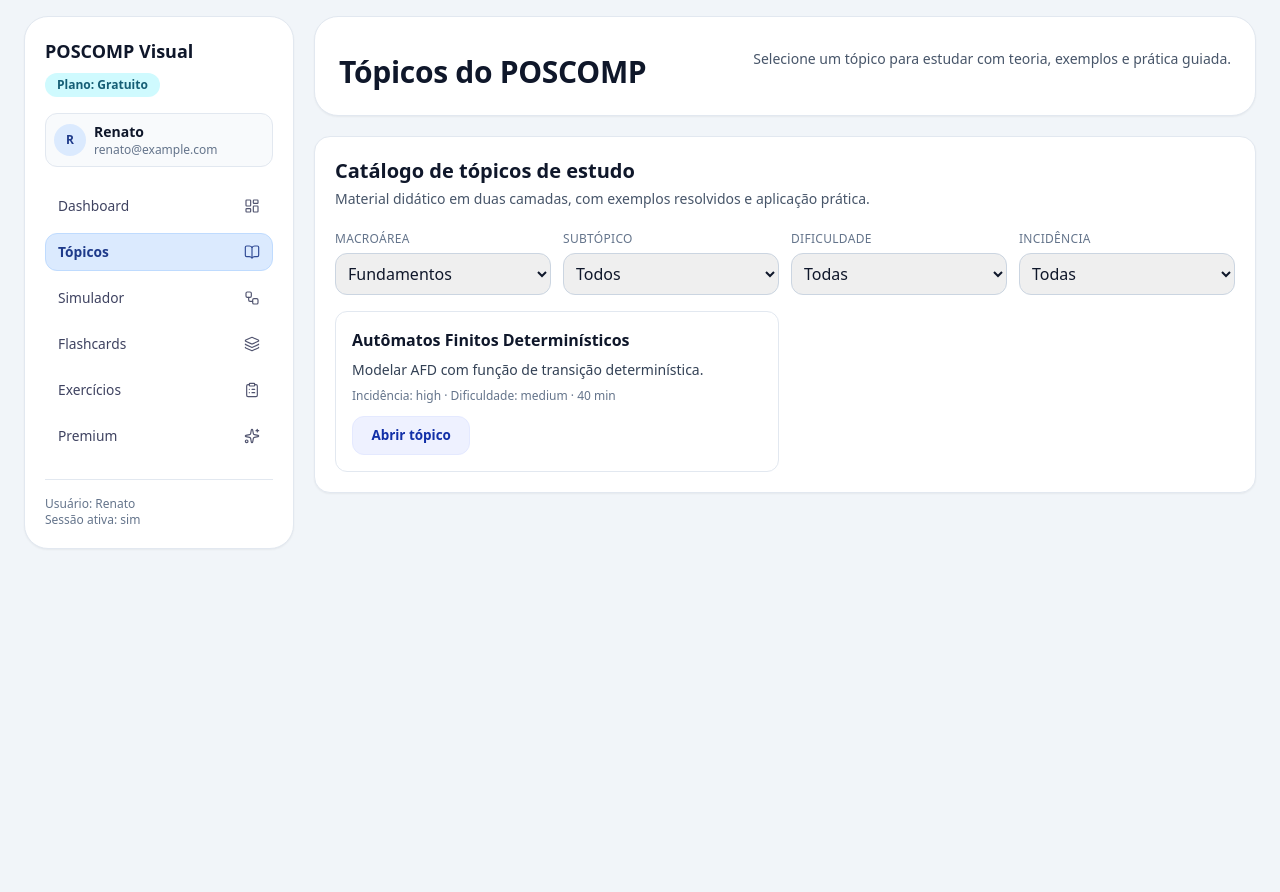
Test: módulo de tópicos › corrige quick-check e salva progresso do tópico
What coordinates should you click on to do the following:
click the button "Tópicos"
I would click on:
 (159, 252)
Its box is [45,233,273,271].
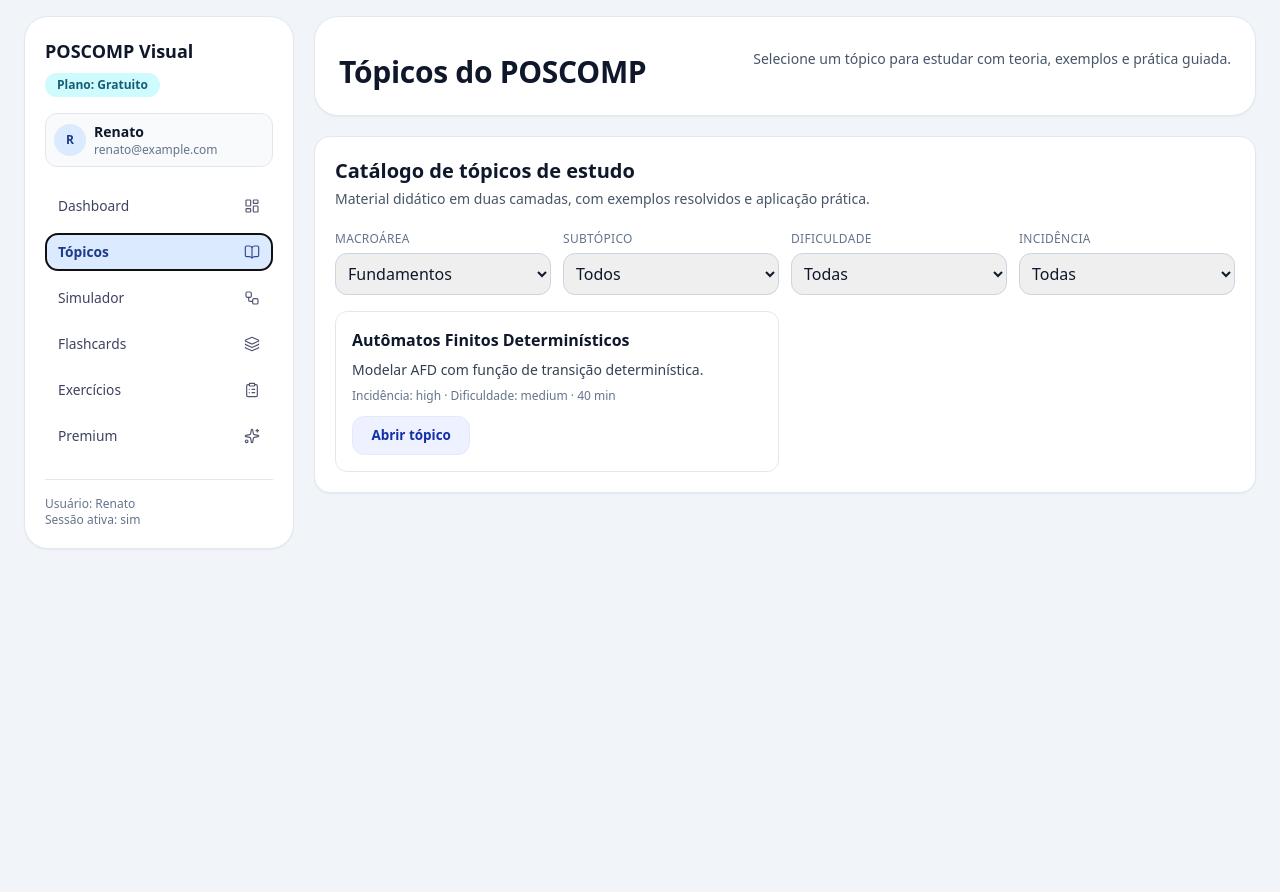
Expected: the heading "Autômatos Finitos Determinísticos" is shown, [352,328,630,350]
What coordinates should you click on to do the following:
click the button "Abrir tópico"
I would click on:
 (411, 435)
Its box is [352,416,470,455].
(page scrolled)
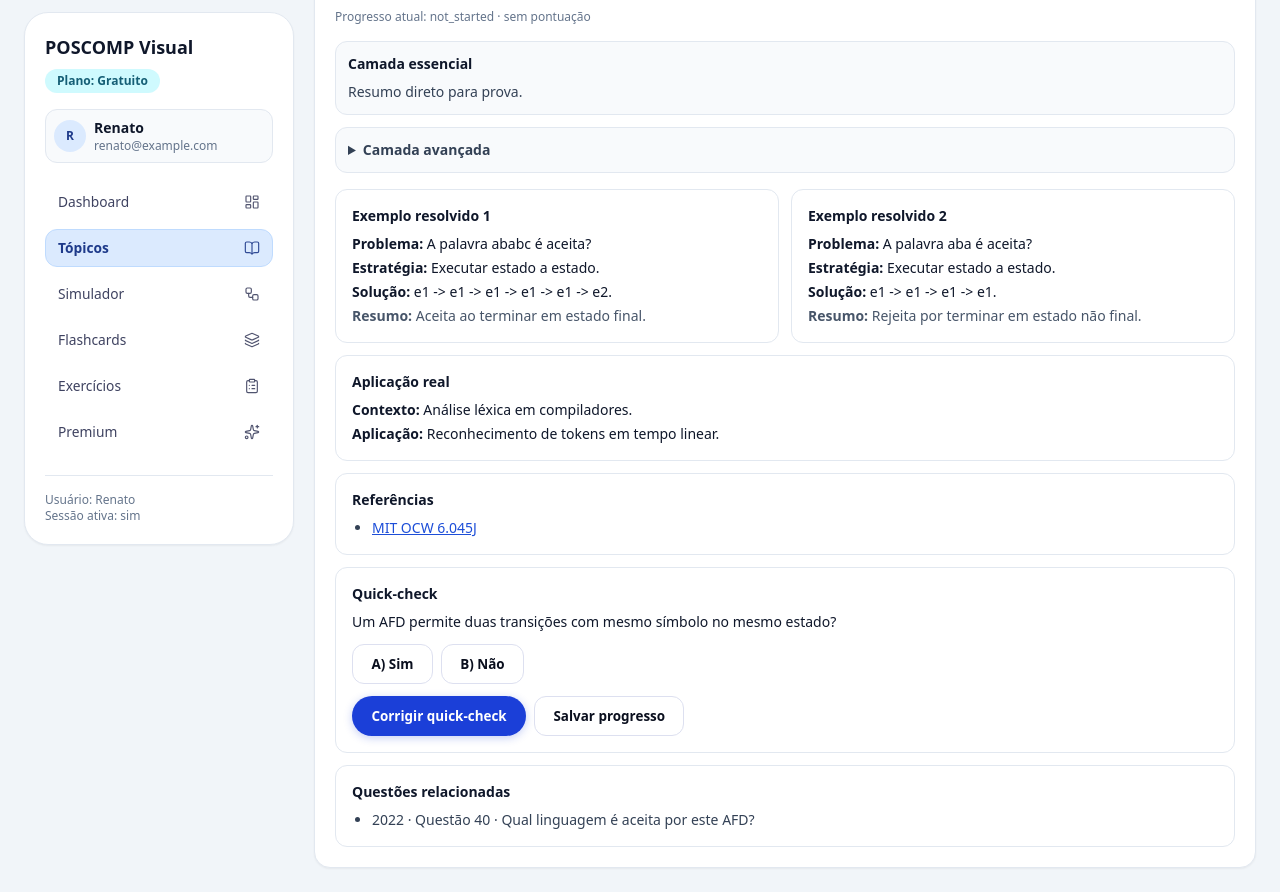
Result: the text "Um AFD permite duas transições" is shown at [352,612,836,631]
What coordinates should you click on to do the following:
click the button "B) Não"
I would click on:
 (482, 664)
Its box is [441,644,524,684].
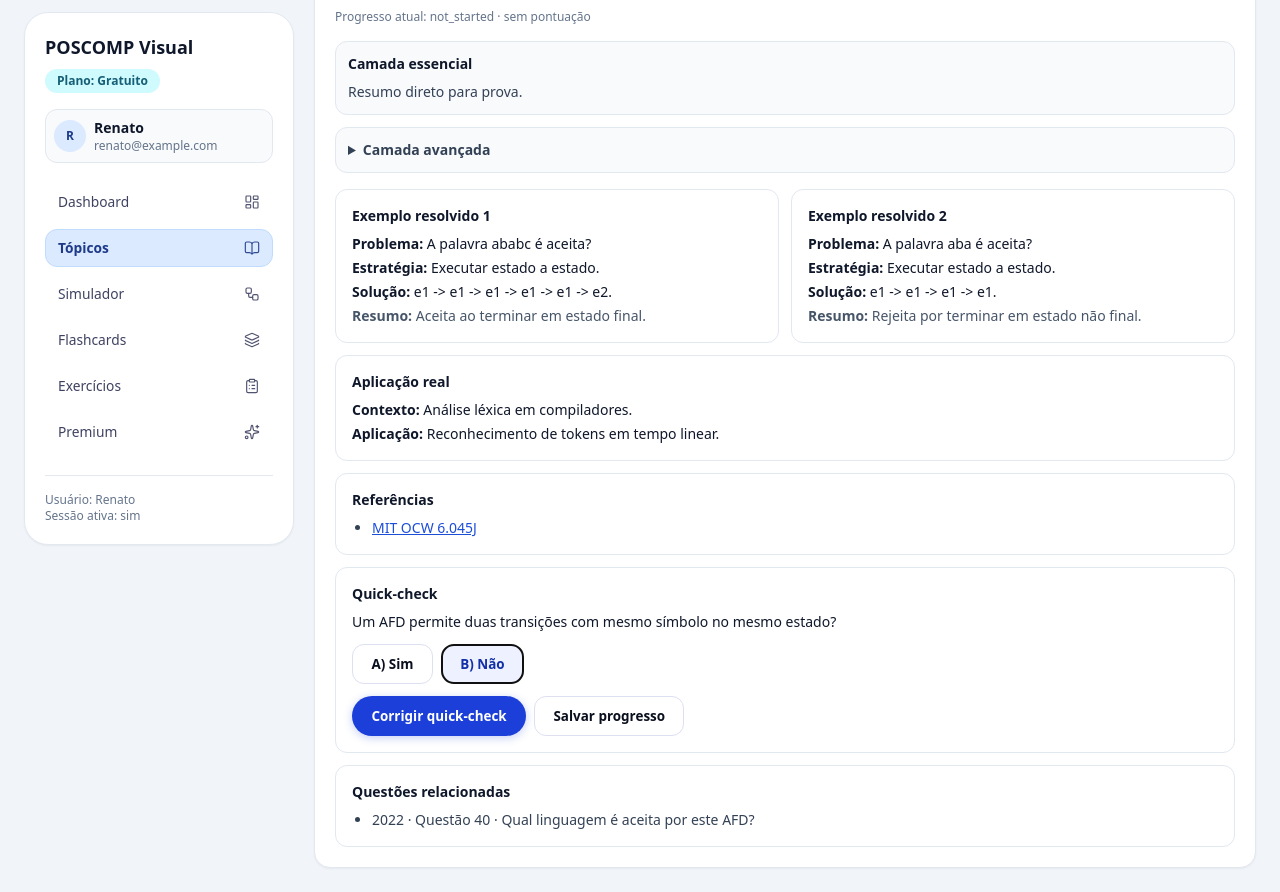
What coordinates should you click on to do the following:
click the button "Corrigir quick-check"
I would click on:
 (439, 716)
Its box is [352,696,526,736].
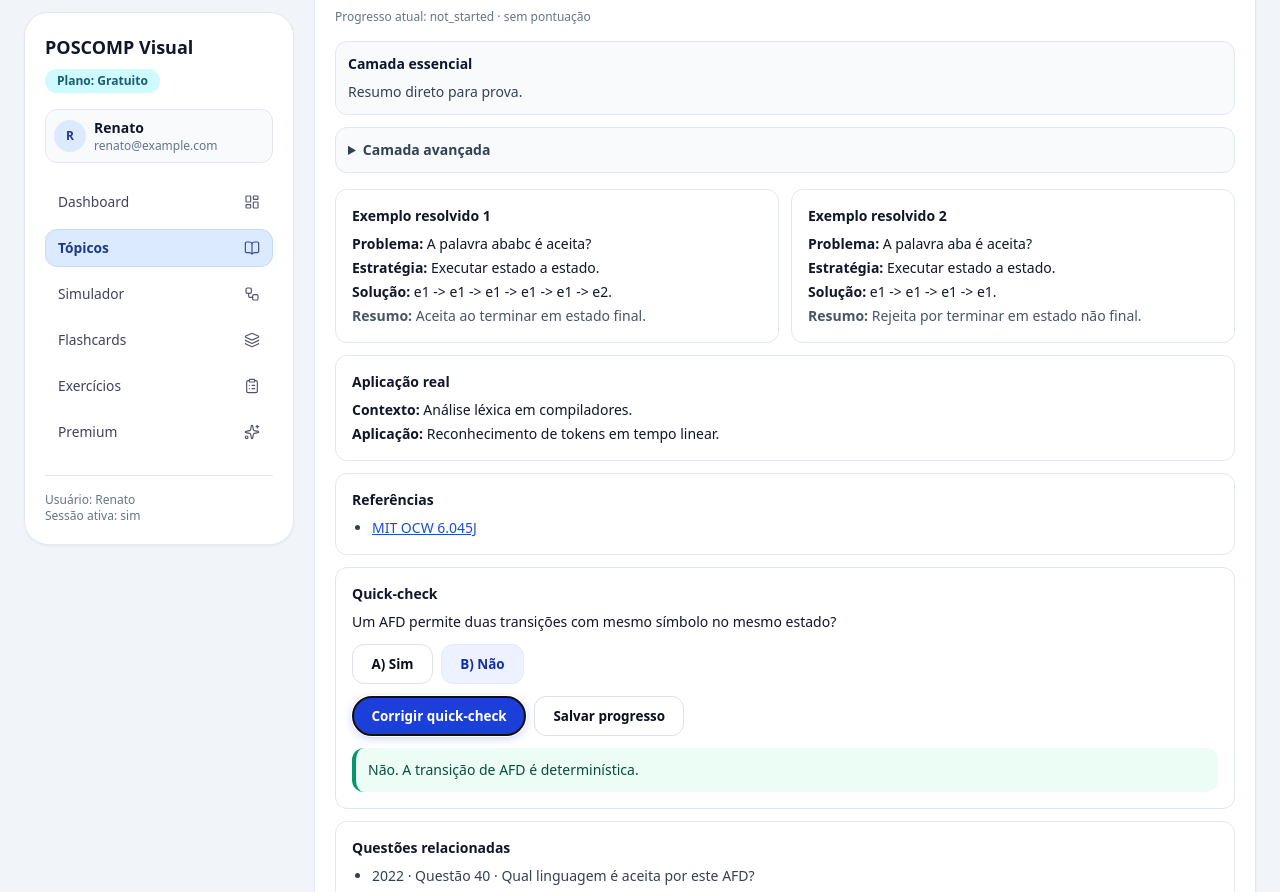
Result: the text "Não. A transição de AFD é determinística." is shown at [368,760,639,779]
What coordinates should you click on to do the following:
click the button "Salvar progresso"
I would click on:
 (609, 716)
Its box is [534,696,684,736].
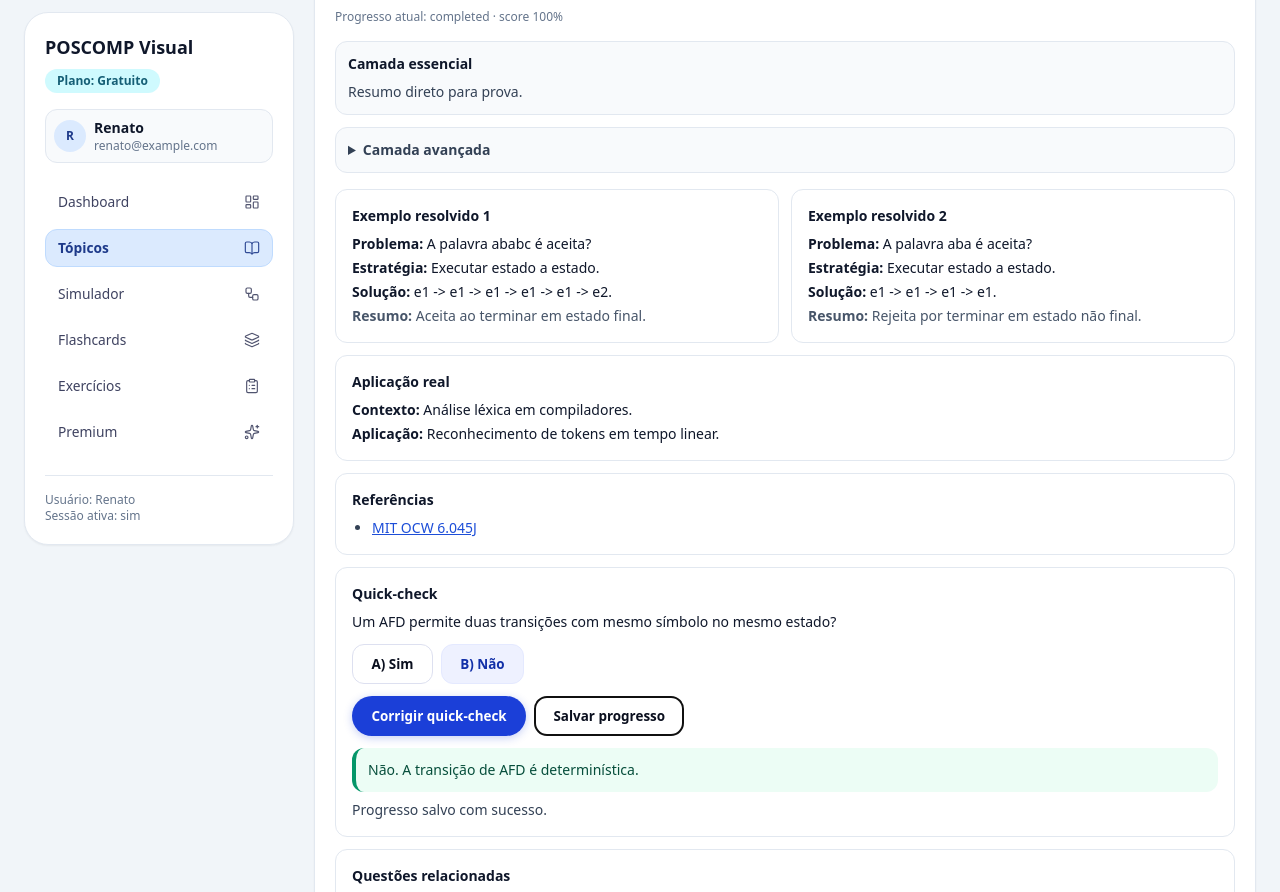
Result: the text "Progresso salvo com sucesso." is shown at [352,800,547,819]
